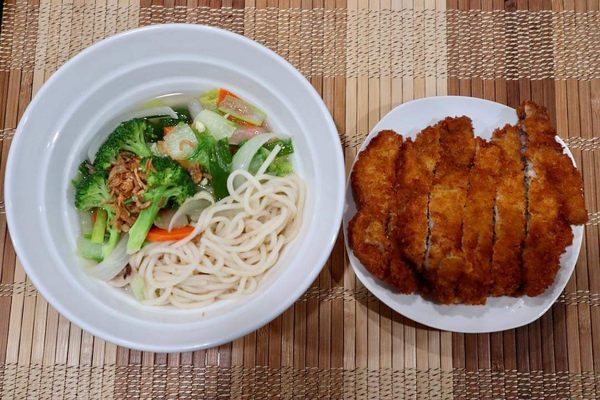curry: (125, 154, 197, 258), (93, 116, 155, 167), (186, 135, 233, 200)
sushi: (10, 24, 346, 353)
